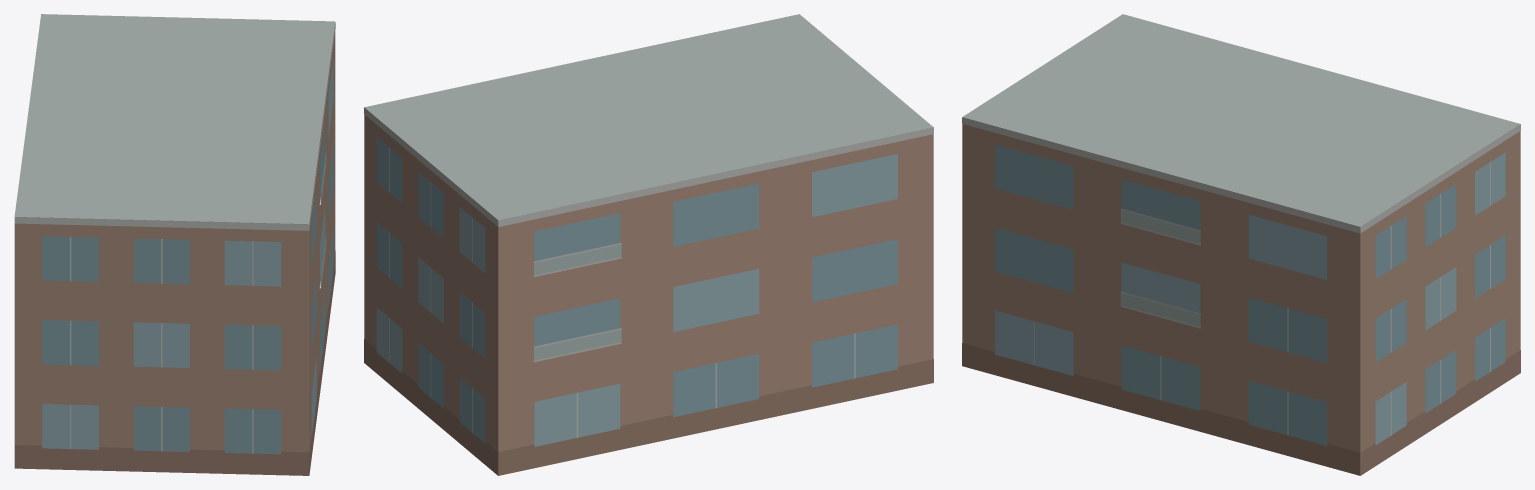
The model's file is survey-upis-32771662.glb.
3 renders of one model, left to right at view 1: azimuth 30°, elevation 25°; view 2: azimuth 150°, elevation 25°; view 3: azimuth 270°, elevation 25°, orthographic. The views are drawn at different scales.
Visible parts, largest first — view 1: survey-upis-32771662.tmp; view 2: survey-upis-32771662.tmp; view 3: survey-upis-32771662.tmp.
Boxes of the visible parts, x1,y1,x2,y2 form: survey-upis-32771662.tmp: [14, 14, 335, 475]; survey-upis-32771662.tmp: [364, 14, 933, 475]; survey-upis-32771662.tmp: [962, 14, 1520, 475].
Bounding box in the file's own units: 16.79 × 9.15 × 18.62.
